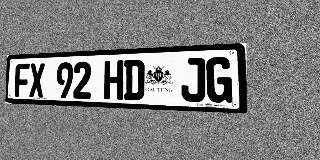2: (73, 61, 91, 99)
9: (56, 62, 73, 98)
D: (124, 59, 144, 100)
F: (15, 63, 29, 97)
G: (206, 57, 232, 103)
H: (104, 60, 123, 100)
J: (181, 57, 205, 102)
X: (29, 63, 45, 98)
